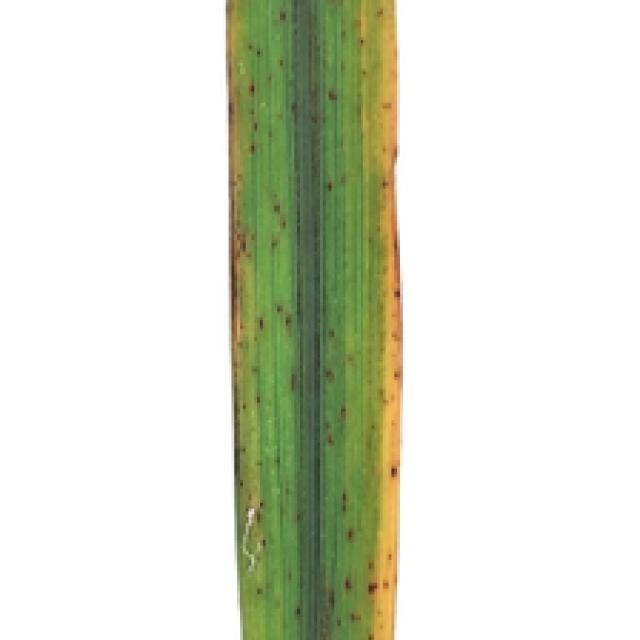Rice___Brown_Spot: (226, 0, 400, 637)
